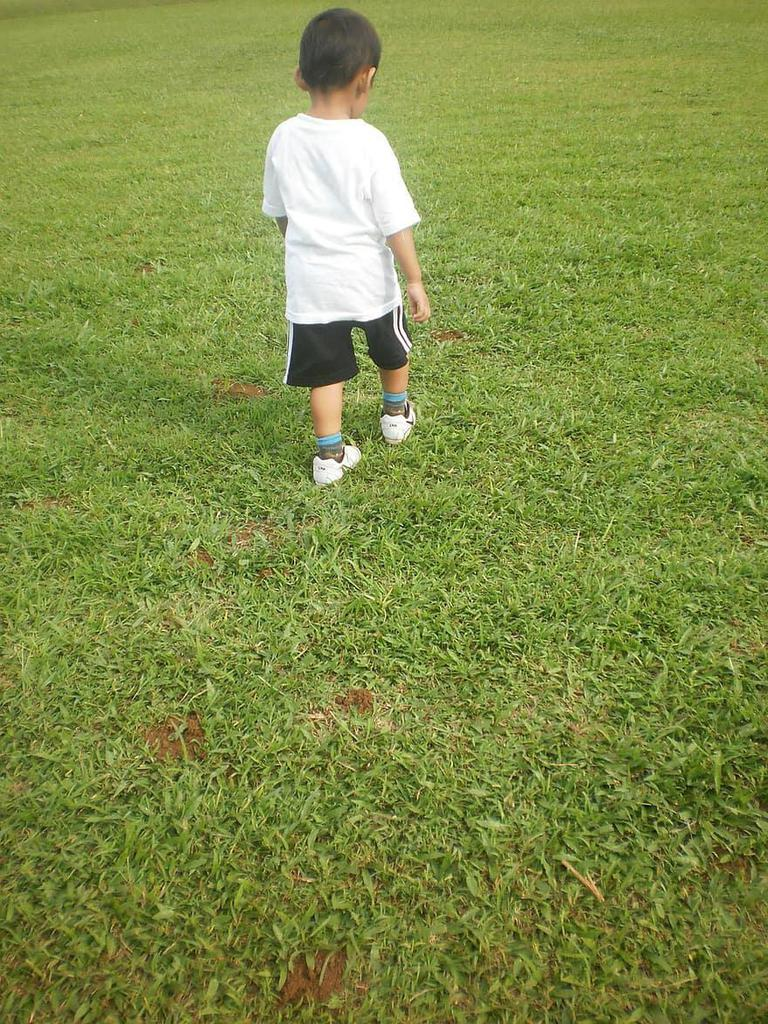child: (235, 2, 457, 502)
